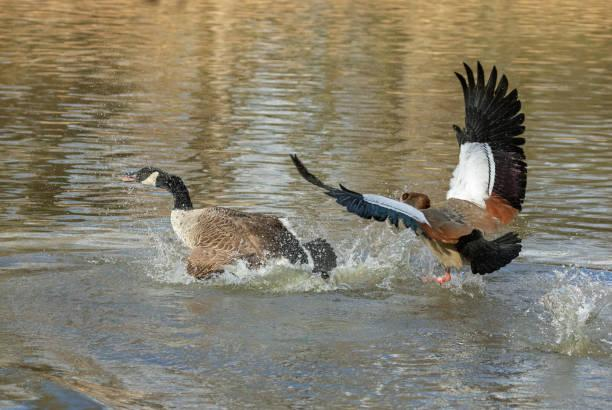Canadian-Goose: (290, 63, 531, 285), (120, 165, 335, 289)
